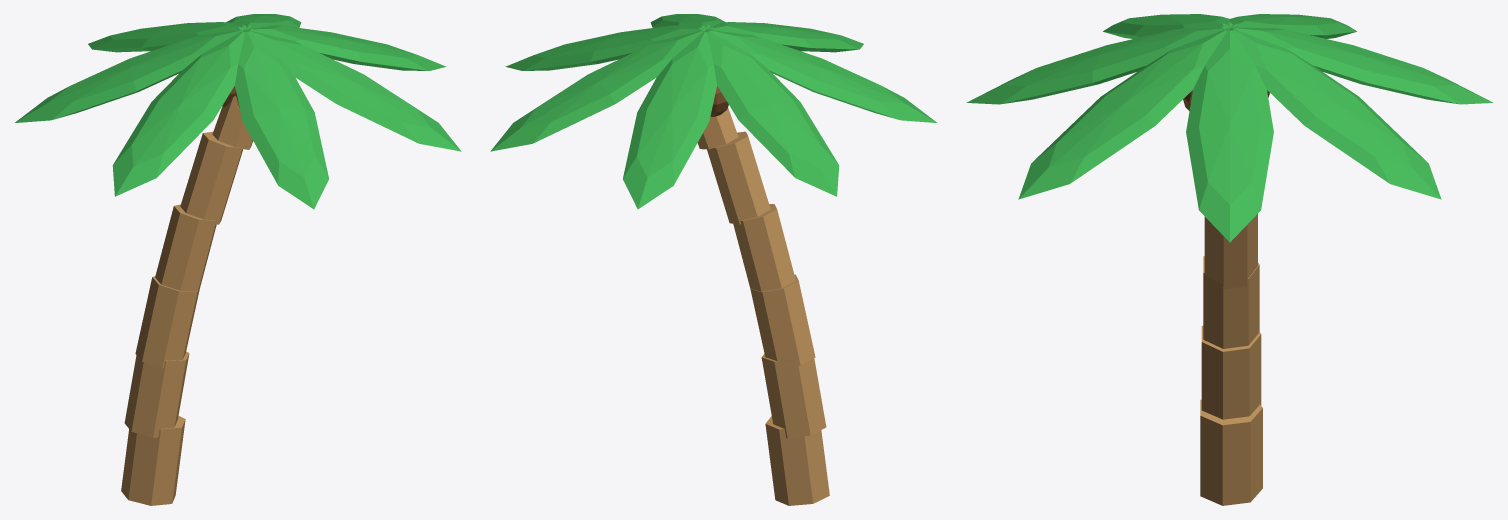
The model's file is PalmTree.fbx.
3 renders of one model, left to right at view 1: azimuth 30°, elevation 25°; view 2: azimuth 150°, elevation 25°; view 3: azimuth 270°, elevation 25°, orthographic. The views are drawn at different scales.
Visible parts, largest first — view 1: PalmLeaf, PalmTrunk; view 2: PalmLeaf, PalmTrunk; view 3: PalmLeaf, PalmTrunk.
Part boxes in pixels (x1,y1,x2,y2): PalmLeaf: (15,14,461,209); PalmTrunk: (121,95,252,505); PalmLeaf: (490,14,936,209); PalmTrunk: (697,107,829,505); PalmLeaf: (966,14,1493,242); PalmTrunk: (1200,214,1262,505).
Size of the model in its own units: 3.74 by 4.19 by 3.84.
